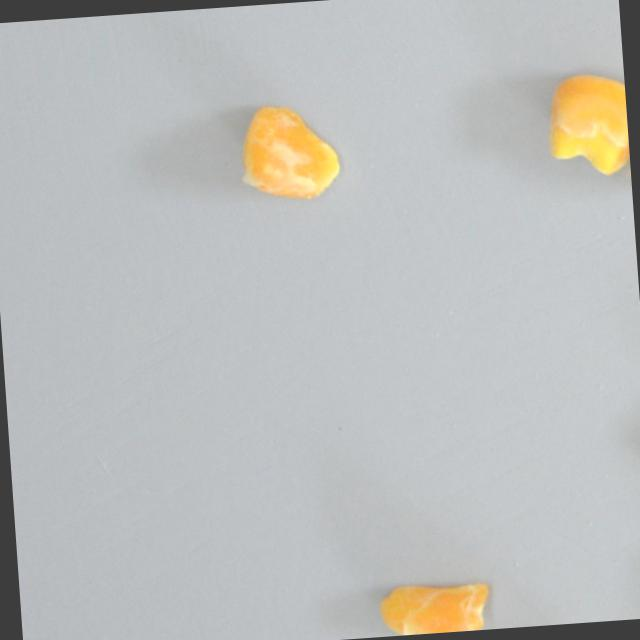dañado: (230, 96, 344, 210), (538, 68, 631, 182), (371, 572, 497, 637)
